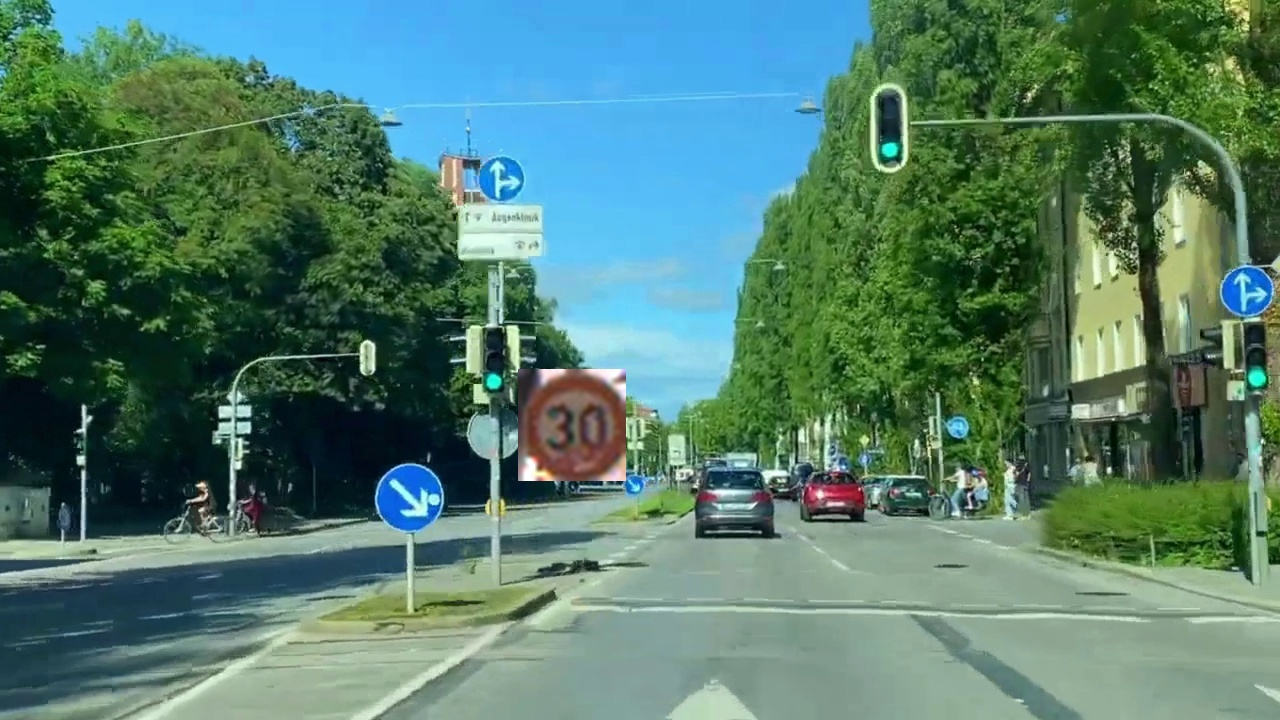Speed 30: (518, 369, 626, 481)
